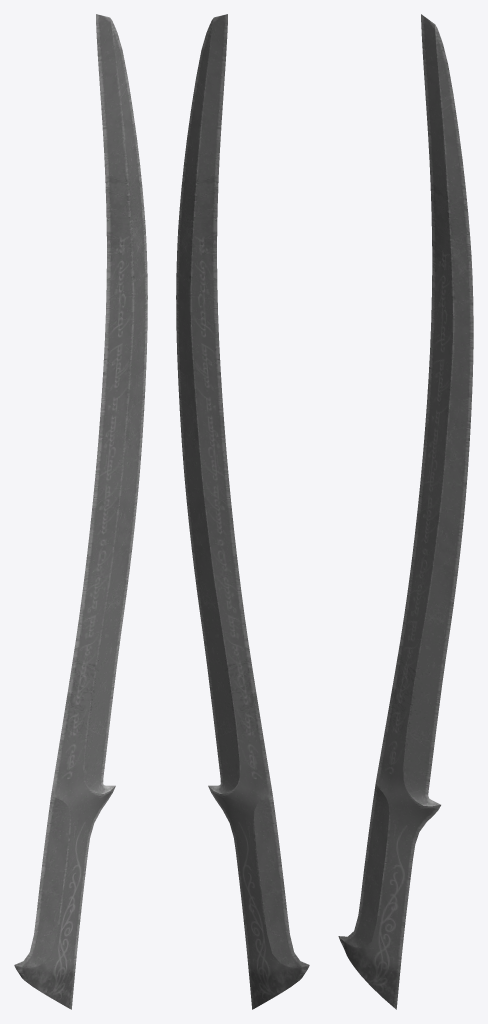
Rendered from wm_rivendell_sword_a01_silver_blade.fbx.
The picture shows the model from 3 angles, left to right: view 1: azimuth 30°, elevation 25°; view 2: azimuth 150°, elevation 25°; view 3: azimuth 330°, elevation 25°; orthographic projection.
Visible parts, largest first — view 1: wm_rivendell_sword_a01_silver_blade; view 2: wm_rivendell_sword_a01_silver_blade; view 3: wm_rivendell_sword_a01_silver_blade.
Boxes of the visible parts, left/top/right/bottom form: wm_rivendell_sword_a01_silver_blade: left=14, top=14, right=147, bottom=1009; wm_rivendell_sword_a01_silver_blade: left=176, top=14, right=309, bottom=1009; wm_rivendell_sword_a01_silver_blade: left=338, top=14, right=473, bottom=1009.
Size of the model in its own units: 0.1286 by 0.00955 by 0.9101.
Materials: 1 (1 with a texture image).
